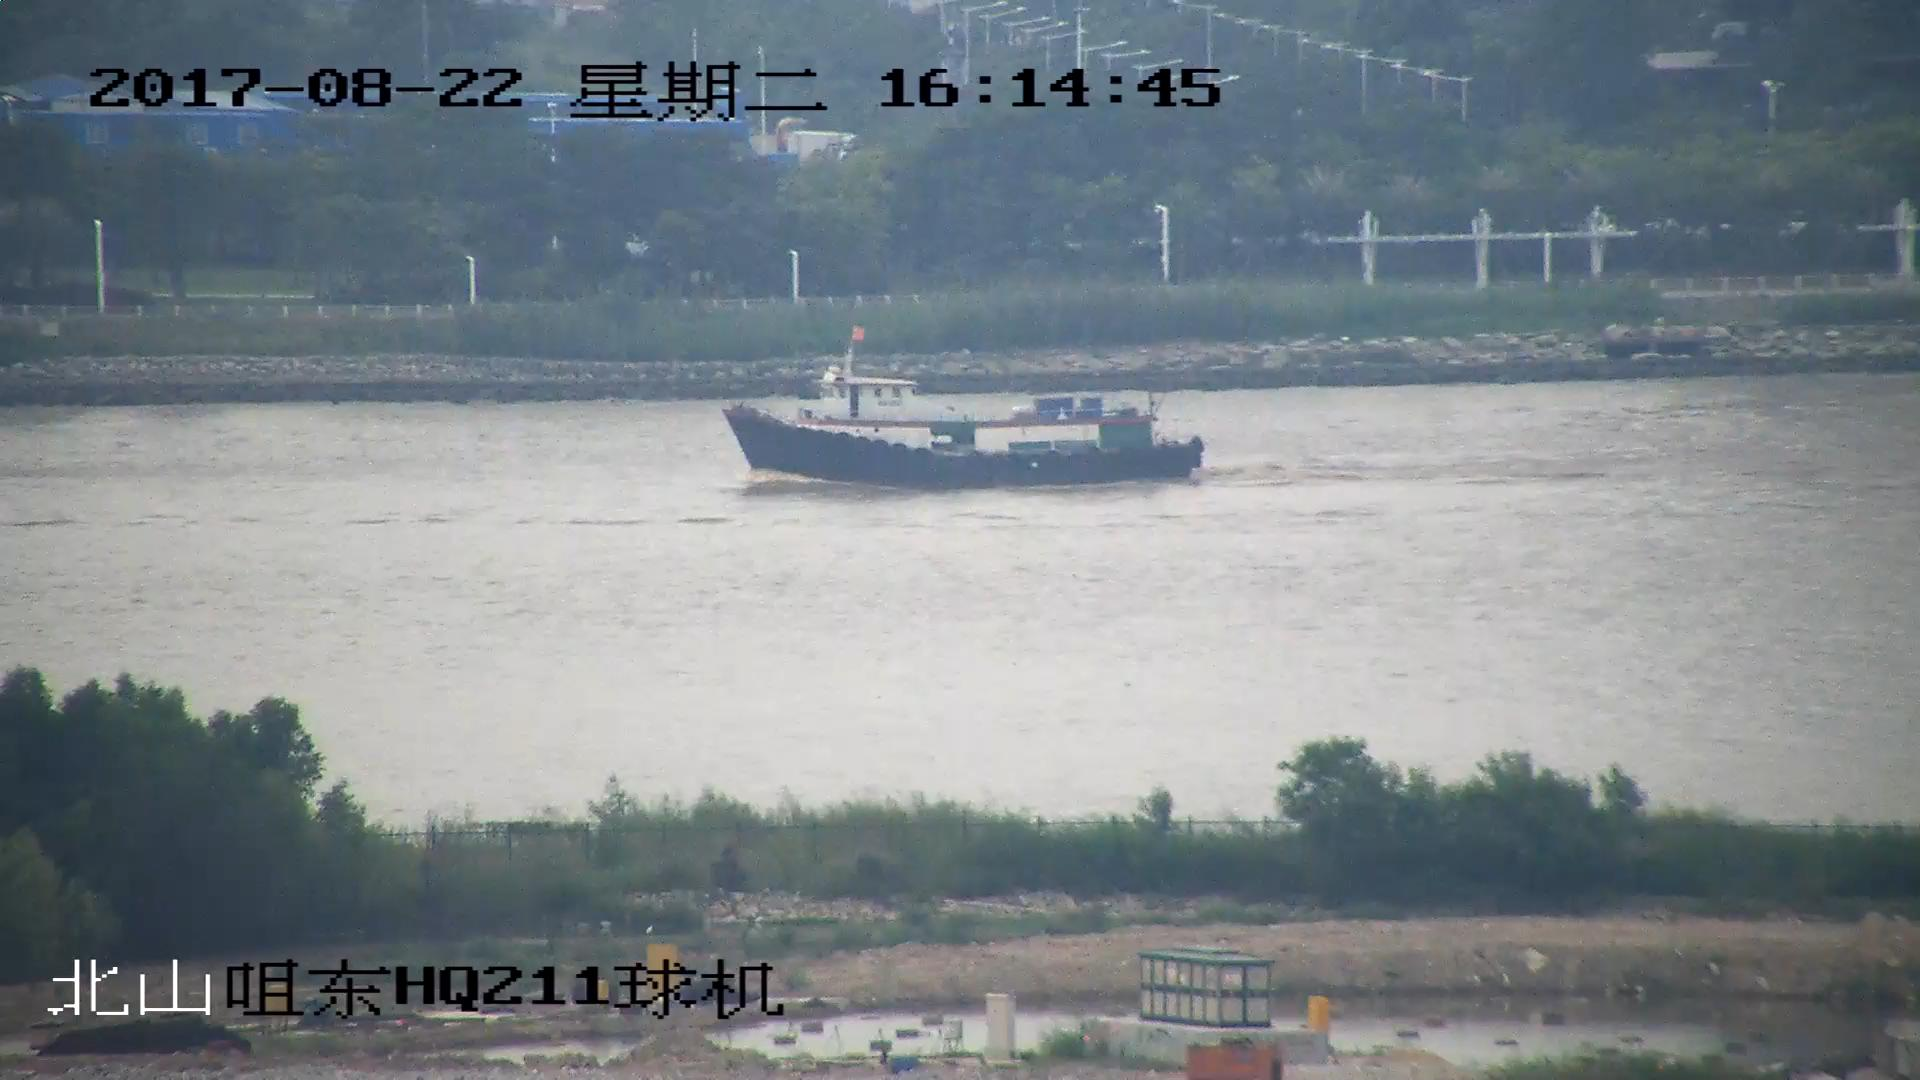fishing boat: (721, 324, 1204, 493)
